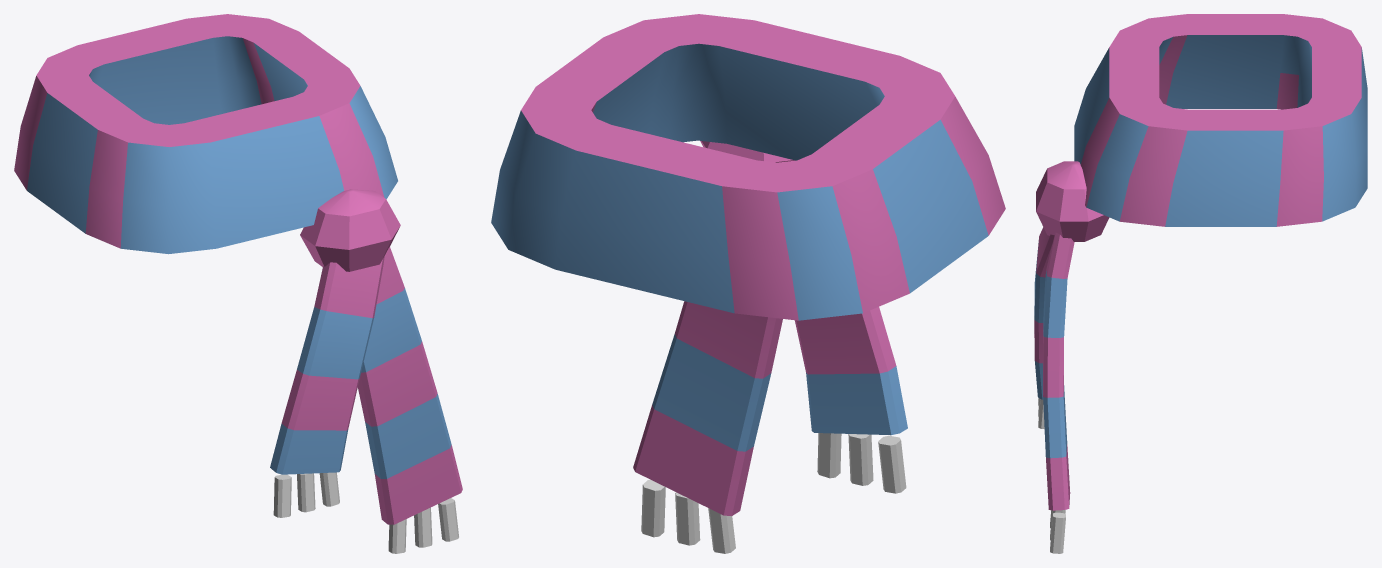
File: gear_echarpe.glb
3 renders of one model, left to right at view 1: azimuth 30°, elevation 25°; view 2: azimuth 150°, elevation 25°; view 3: azimuth 270°, elevation 25°, orthographic. The views are drawn at different scales.
Visible parts, largest first — view 1: torso__echarpe, torso__echarpe_glow; view 2: torso__echarpe, torso__echarpe_glow; view 3: torso__echarpe, torso__echarpe_glow.
Boxes of the visible parts, <box> form: torso__echarpe: <box>14,14,462,524</box>; torso__echarpe_glow: <box>273,472,458,553</box>; torso__echarpe: <box>491,14,1005,515</box>; torso__echarpe_glow: <box>641,433,906,553</box>; torso__echarpe: <box>1034,14,1367,510</box>; torso__echarpe_glow: <box>1038,398,1065,553</box>.
Bounding box in the file's own units: 0.2378 × 0.3056 × 0.2272.
